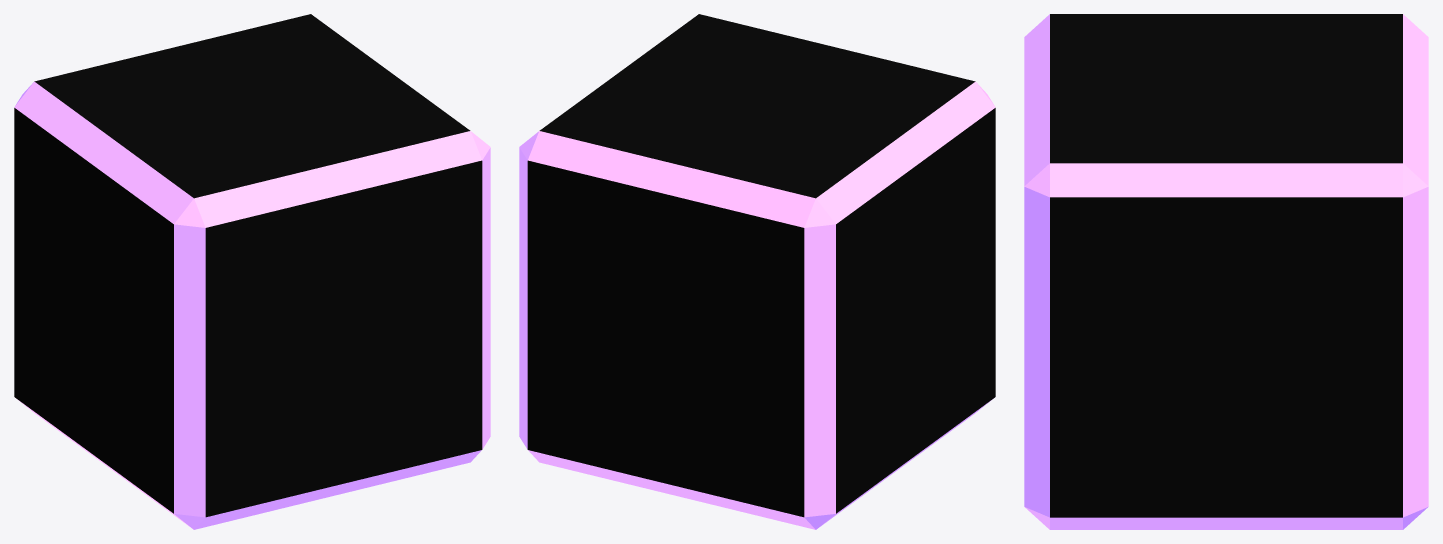
Rendered from tron cube8.gltf.
3 renders of one model, left to right at view 1: azimuth 30°, elevation 25°; view 2: azimuth 150°, elevation 25°; view 3: azimuth 270°, elevation 25°, orthographic. The views are drawn at different scales.
Parts seen in each view (by area): view 1: TronCube; view 2: TronCube; view 3: TronCube.
Boxes of the visible parts, x1,y1,x2,y2 form: TronCube: (14, 14, 490, 529); TronCube: (519, 14, 995, 529); TronCube: (1024, 14, 1428, 529).
Bounding box in the file's own units: 2 × 2 × 2.
